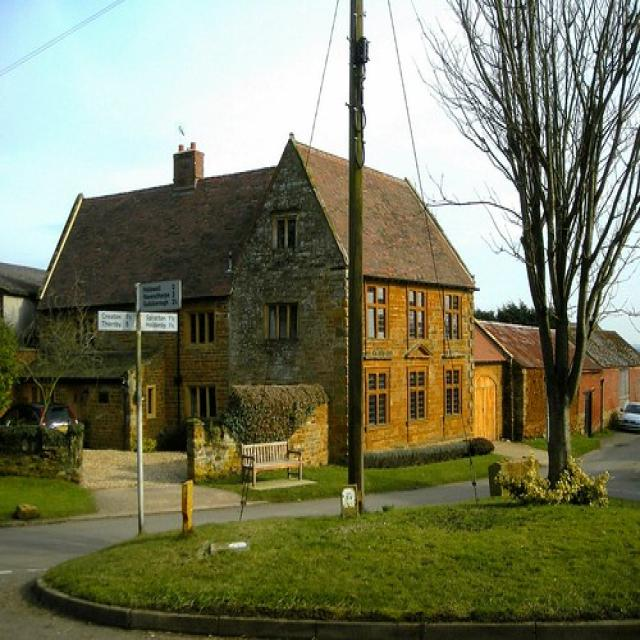building: (27, 130, 482, 484)
